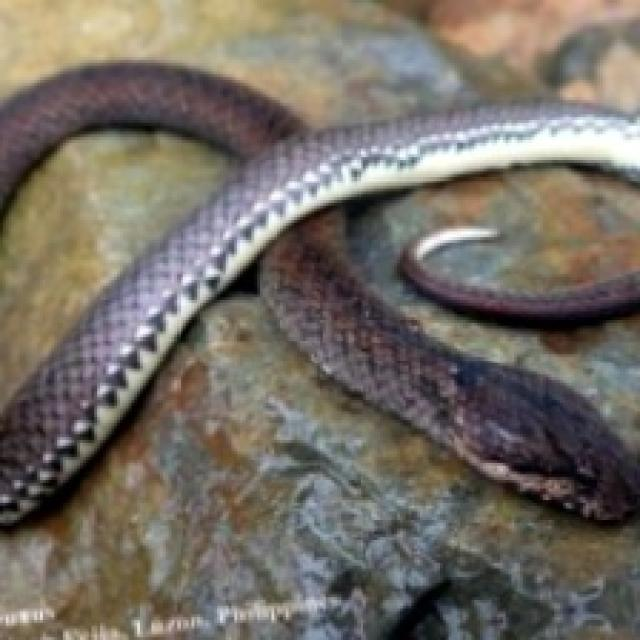reinhardts lined snake: (0, 63, 637, 523), (401, 226, 640, 324)
